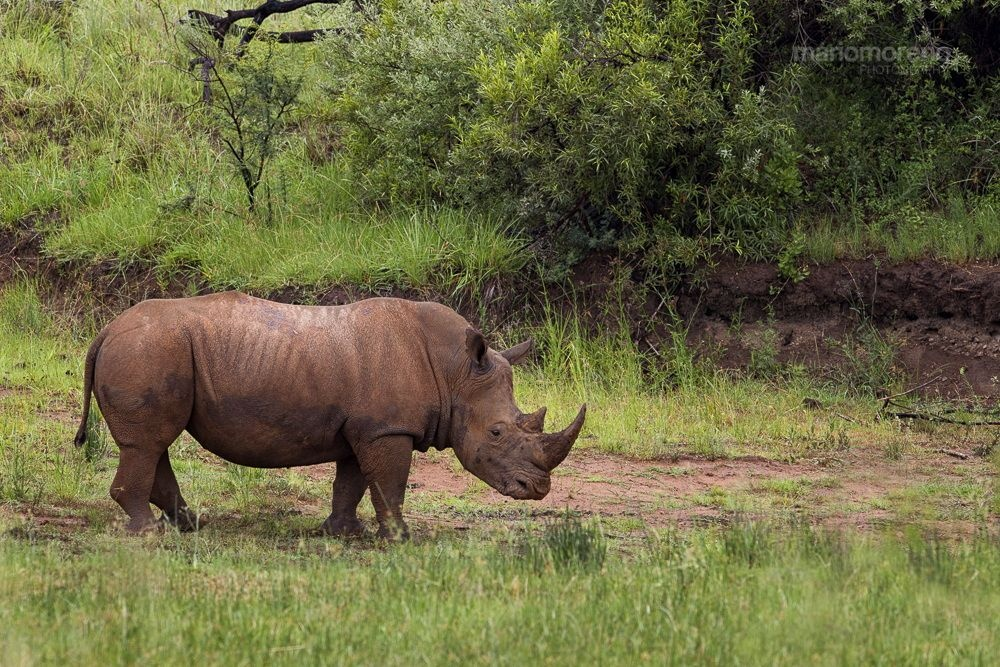rhino: (71, 288, 589, 561)
